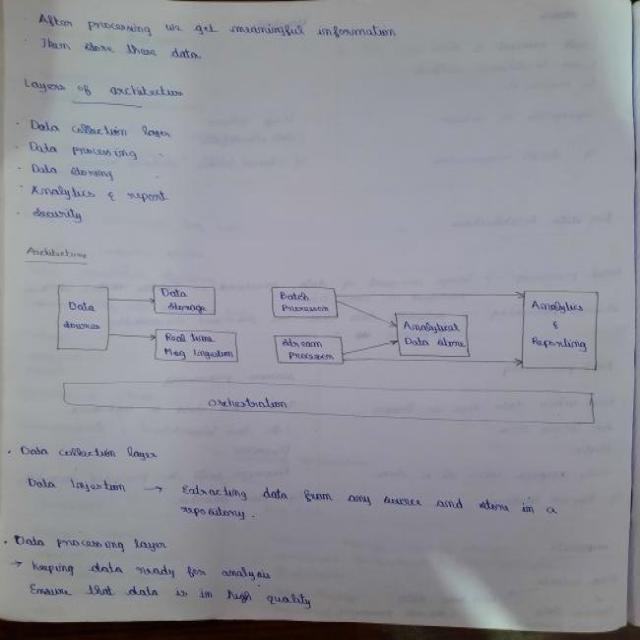Figure Detection - v3 Dataset Version2: (34, 268, 611, 435)
